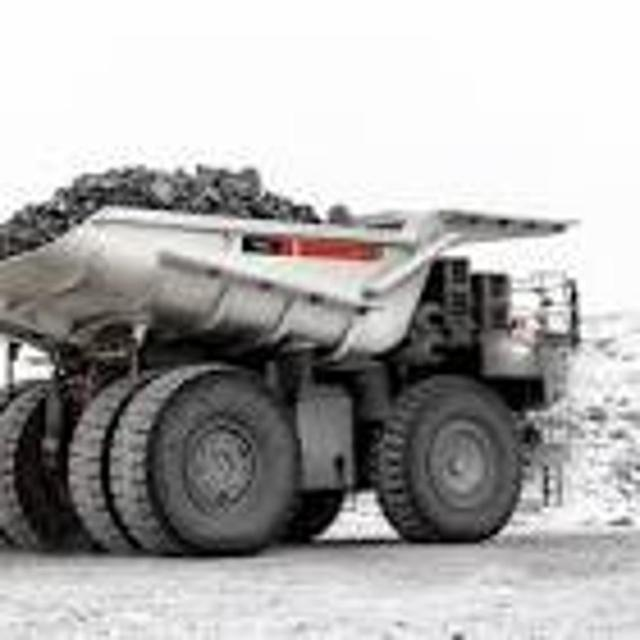dump_truck: (0, 159, 576, 561)
